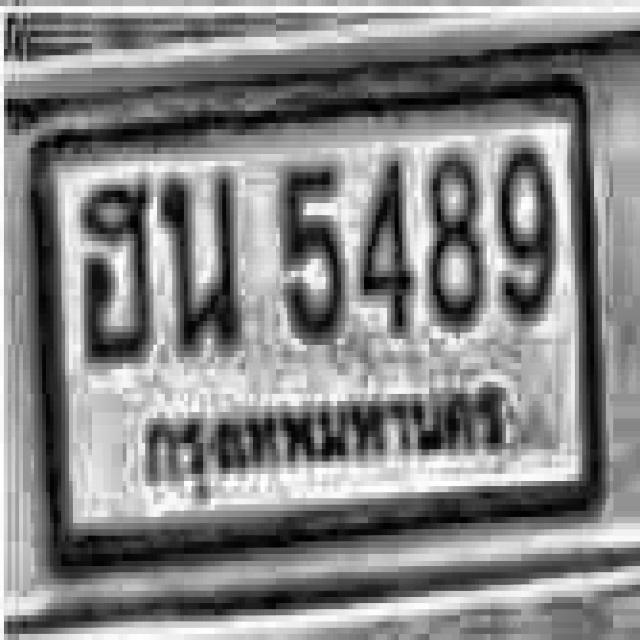license-plate: (23, 68, 616, 580)
